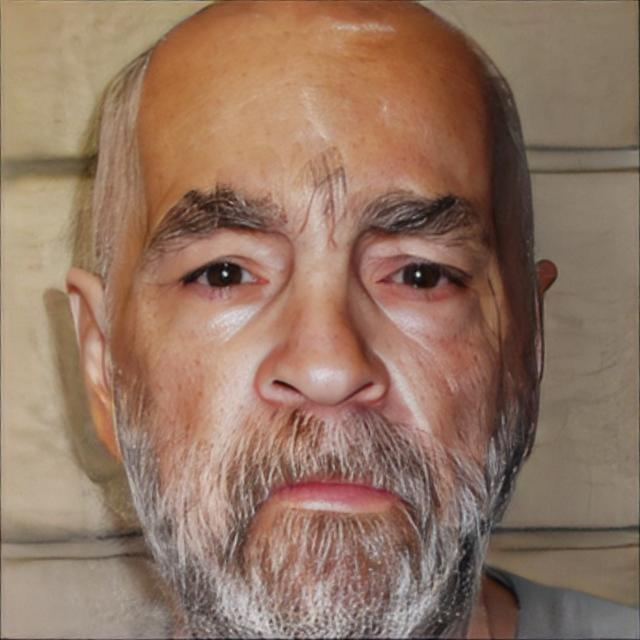sad: (111, 35, 521, 640)
